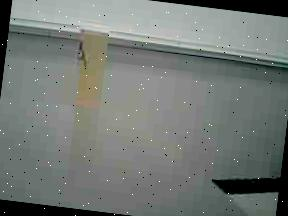Bottle A: (59, 9, 126, 126)
